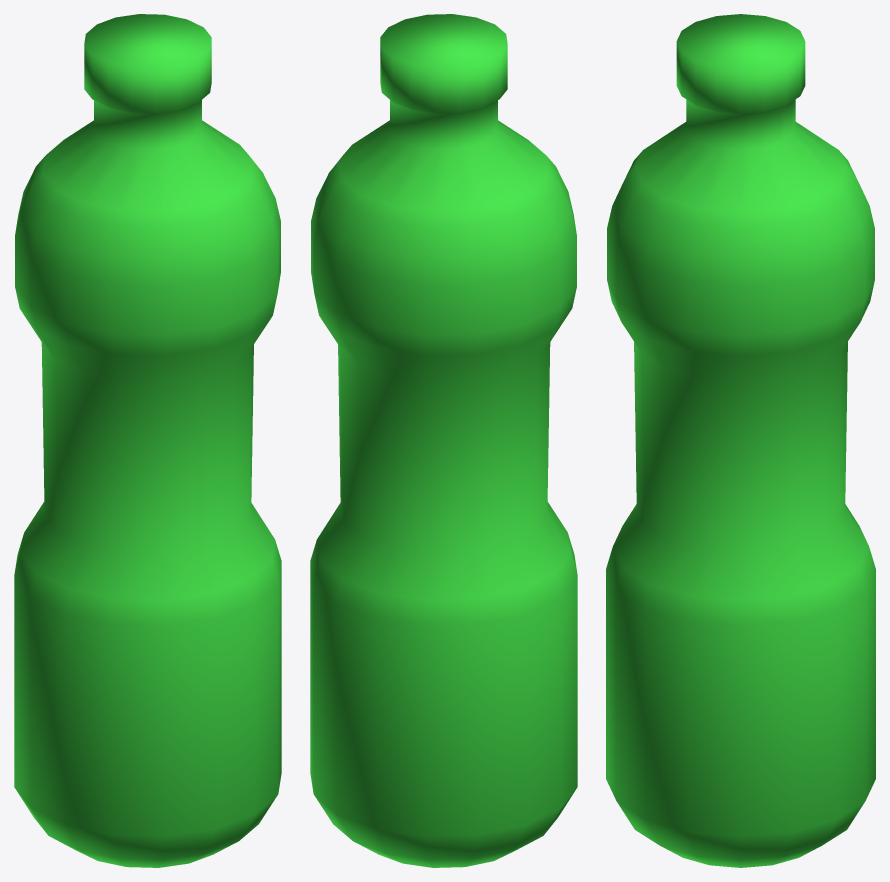
Rendered from te_verde.fbx.
3 renders of one model, left to right at view 1: azimuth 30°, elevation 25°; view 2: azimuth 150°, elevation 25°; view 3: azimuth 270°, elevation 25°, orthographic.
Visible parts, largest first — view 1: teverde_max; view 2: teverde_max; view 3: teverde_max.
Part boxes in pixels (x1,y1,x2,y2): teverde_max: (14,14,281,867); teverde_max: (310,14,577,867); teverde_max: (606,14,875,867).
Size of the model in its own units: 68.5 by 222 by 68.5.
